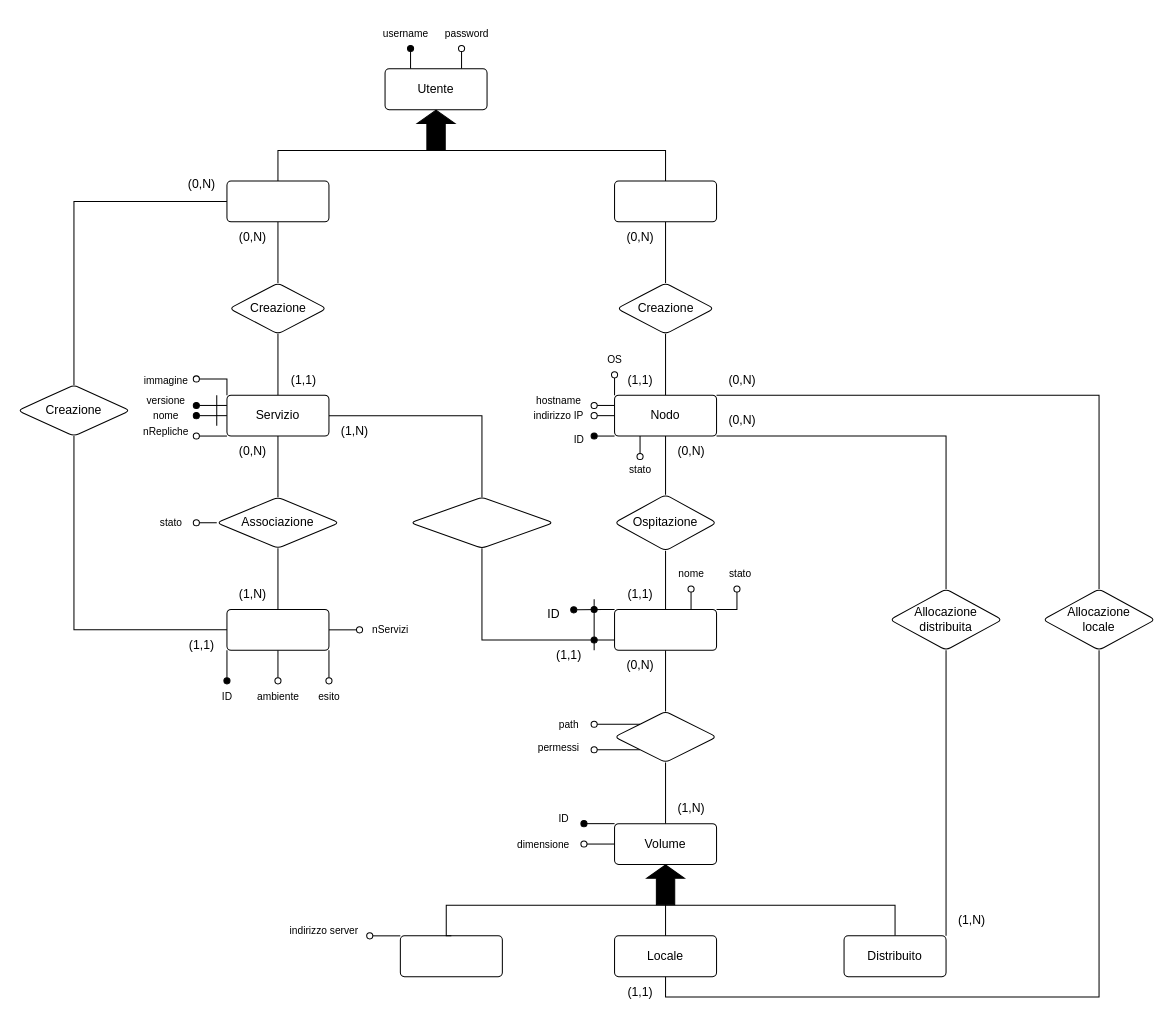
The diagram is 1173 pixels wide and 1024 high, and some of its shapes have lost their labels. Each missing label, with the centre of its shape:
Admin: the point at 665,201
Container: the point at 665,629
Contenuto: the point at 665,736
Deployment: the point at 277,629
Developer: the point at 277,201
Globale: the point at 450,956
Part-of: the point at 481,522
